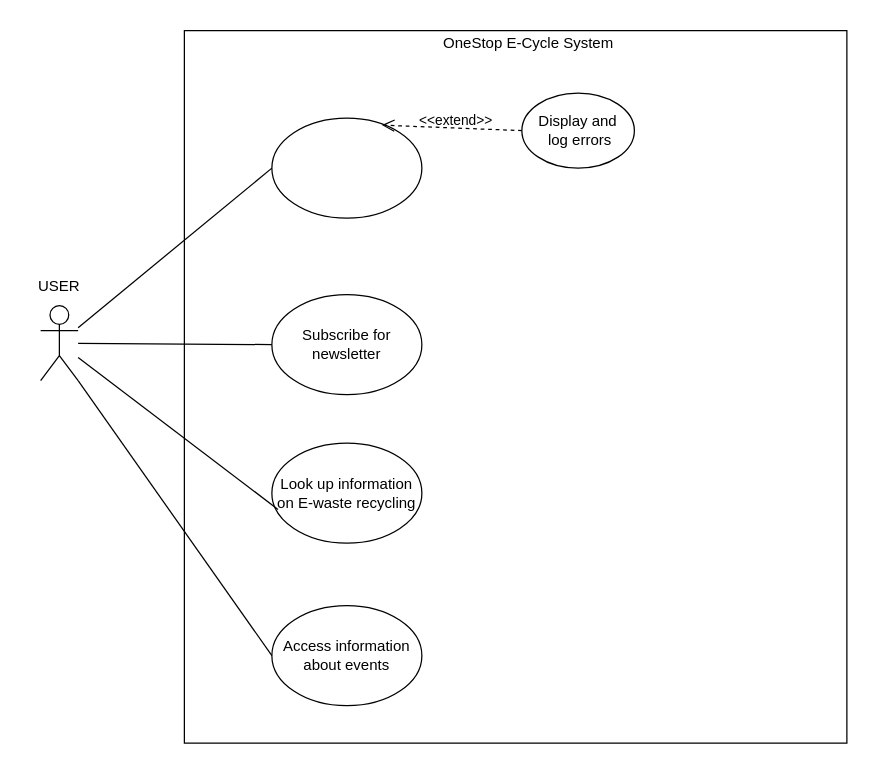
Some shapes in this 869 by 775 pixel diagram are drawn without their labels. The centre of each missing label's shape, as x and y in pixels:
Actor: (58,342)
Find recycling point: (346,167)
